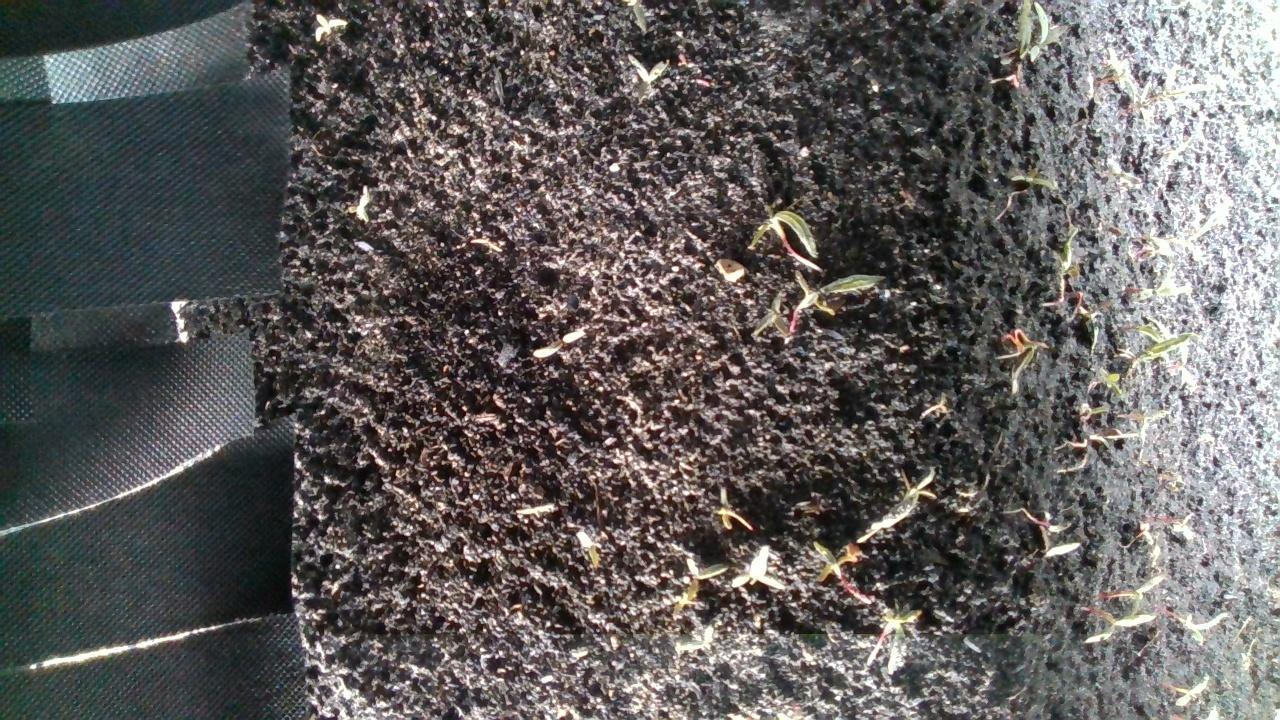weed: (569, 528, 614, 577), (708, 488, 751, 537), (536, 328, 581, 359), (296, 12, 343, 39), (348, 191, 376, 221)
